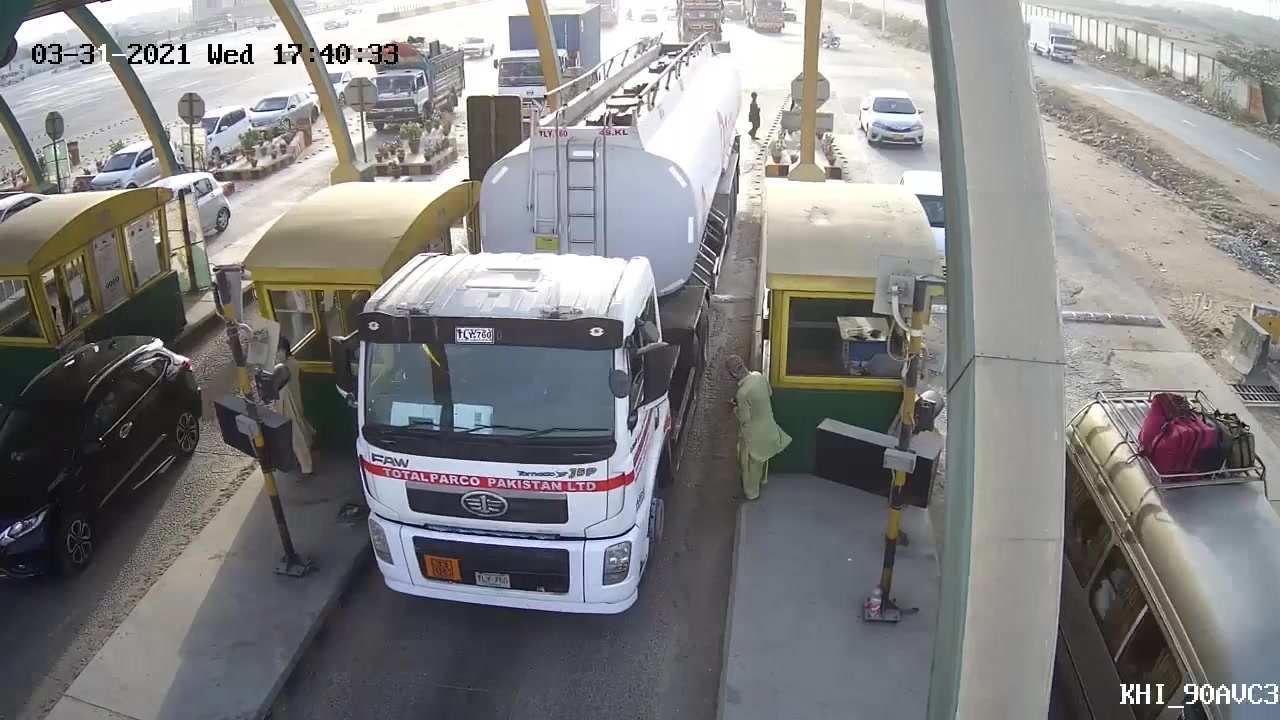F6: (337, 34, 759, 630)
